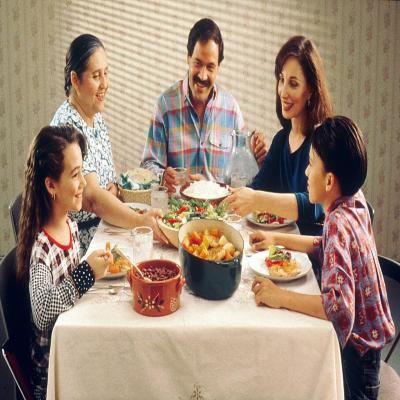happy: (60, 147, 86, 214), (84, 49, 110, 114), (278, 62, 306, 119), (190, 44, 215, 99), (304, 138, 324, 204)
